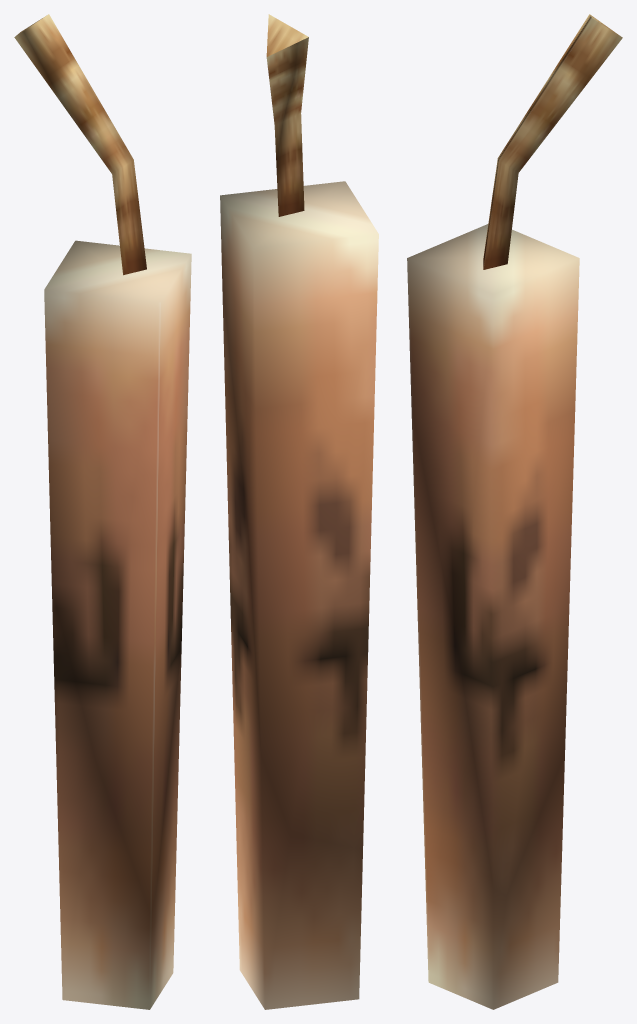
The model's file is gunshopdynamite.obj.
3 renders of one model, left to right at view 1: azimuth 30°, elevation 25°; view 2: azimuth 150°, elevation 25°; view 3: azimuth 270°, elevation 25°, orthographic. The views are drawn at different scales.
Visible parts, largest first — view 1: GunShopDynamite; view 2: GunShopDynamite; view 3: GunShopDynamite.
Boxes of the visible parts, box(x1,y1,x2,y2) form: GunShopDynamite: box(14, 14, 191, 1009); GunShopDynamite: box(220, 14, 378, 1009); GunShopDynamite: box(407, 14, 622, 1009).
Bounding box in the file's own units: 0.123 × 0.7504 × 0.1538.
